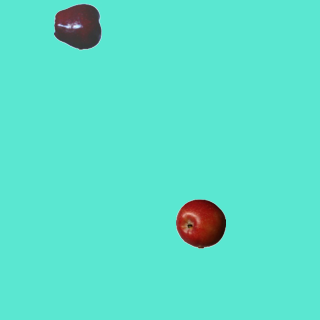Apple Braeburn: (175, 198, 225, 248)
Apple Red Delicious: (53, 1, 103, 51)
